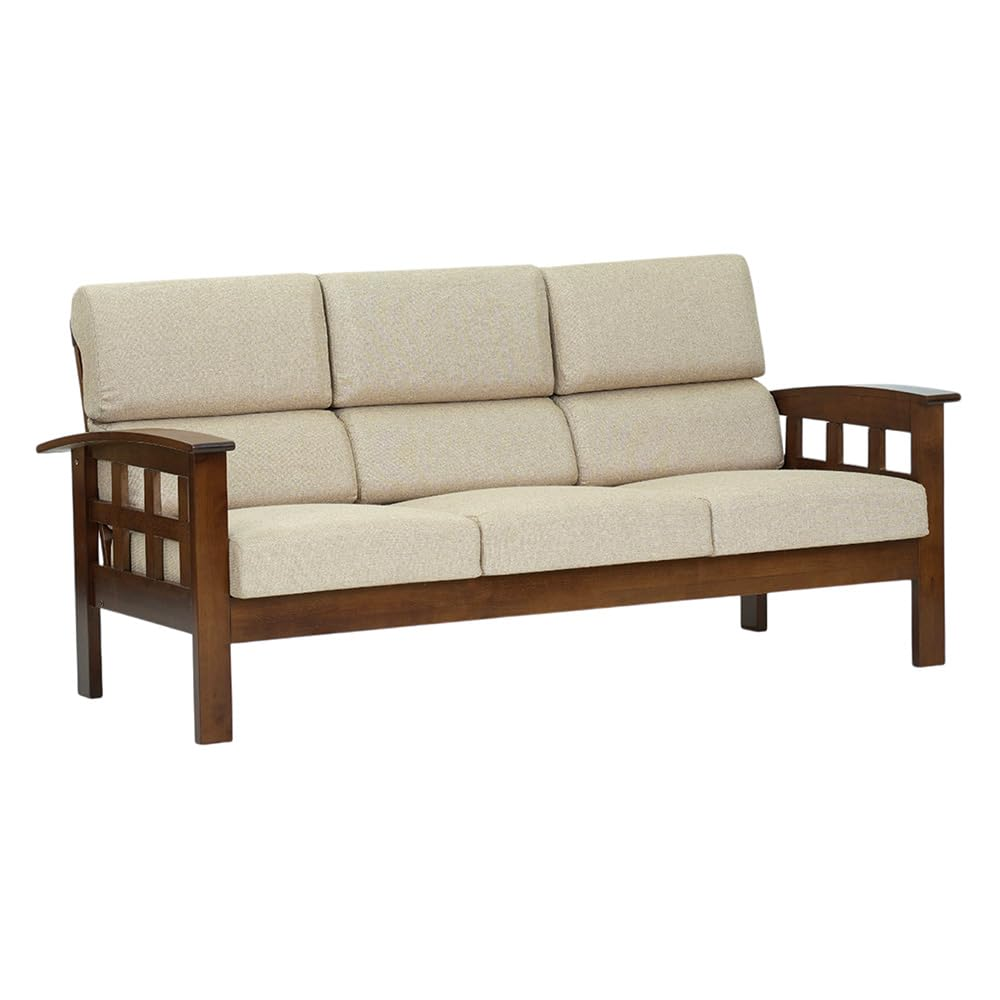3seatersofa: (38, 255, 954, 742)
backrest: (72, 255, 781, 505)
base: (231, 540, 917, 642), (231, 541, 916, 641), (96, 568, 187, 629)
leftarmrest: (772, 385, 960, 430)
leg: (72, 475, 220, 735), (932, 416, 950, 662)
rightarmrest: (38, 430, 234, 475)
seat: (229, 470, 927, 598)
